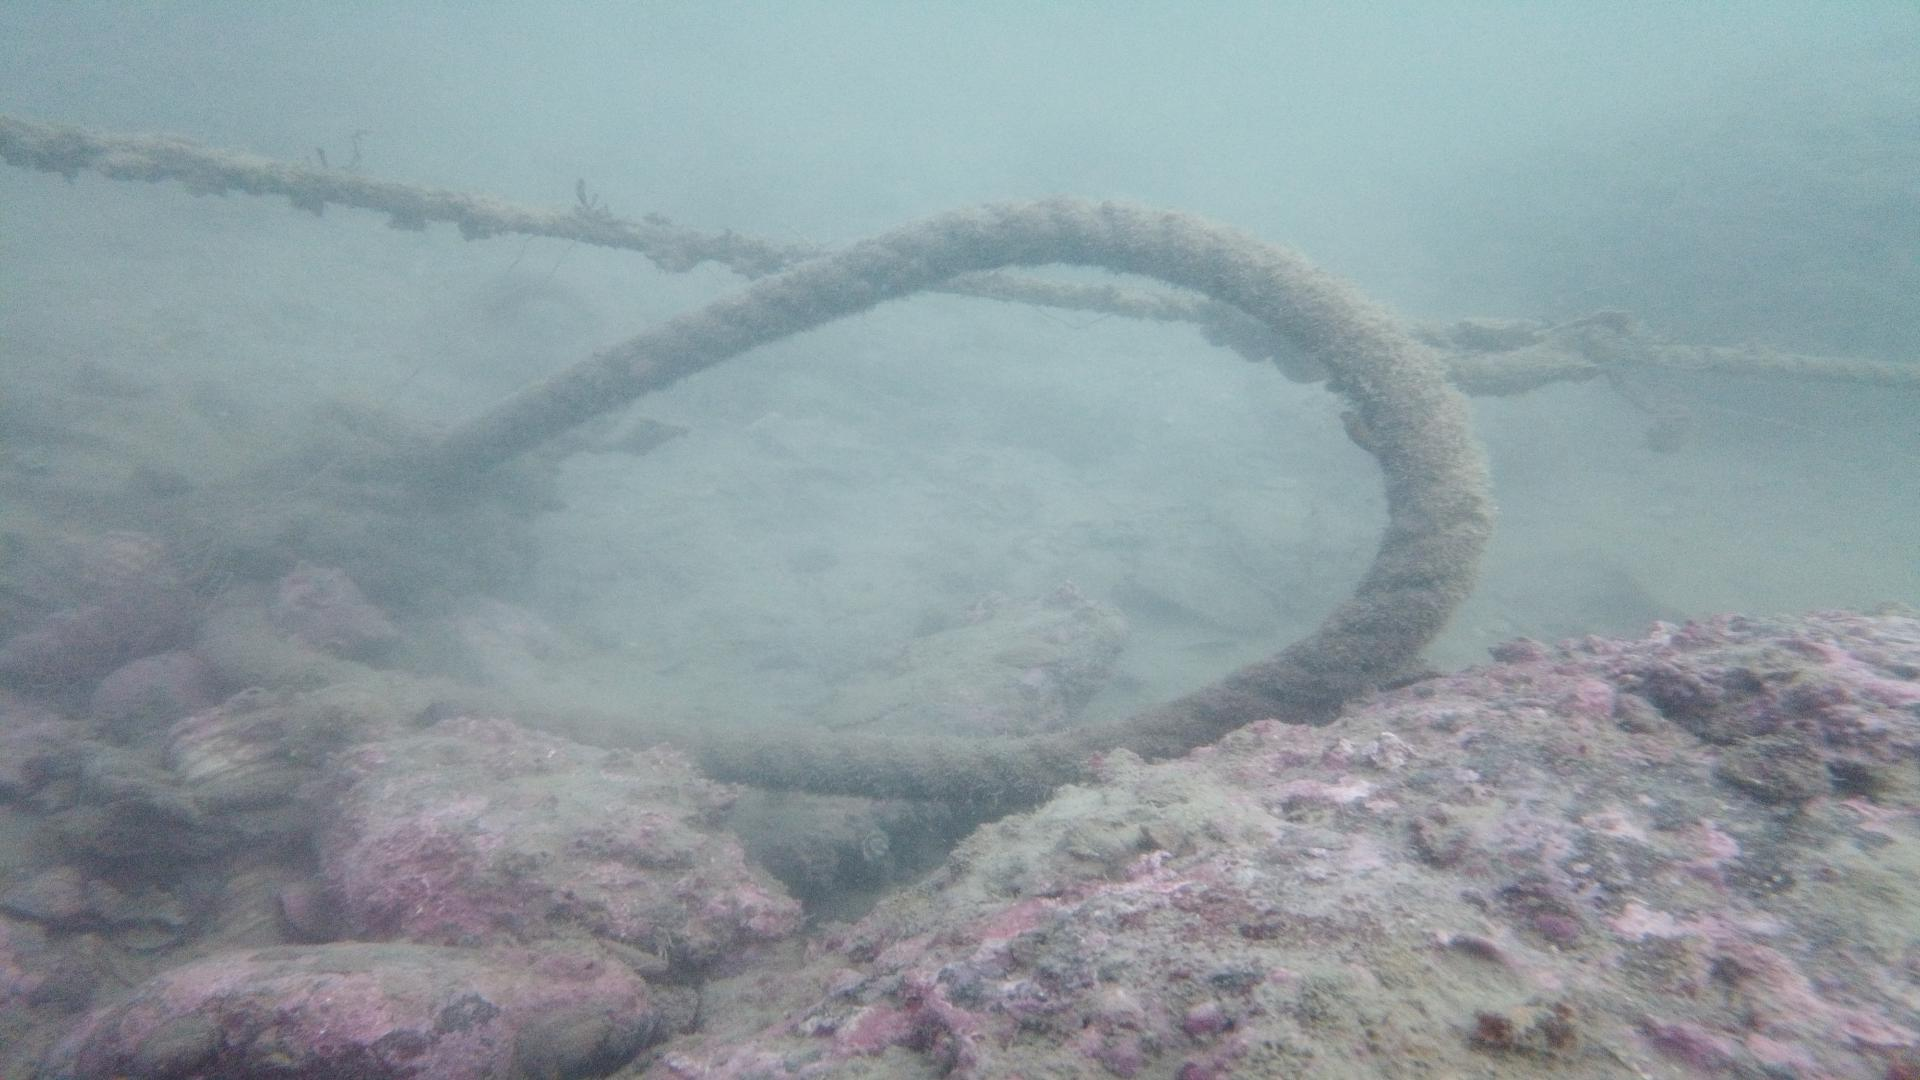rope: (0, 185, 1497, 811), (0, 96, 1919, 394)
